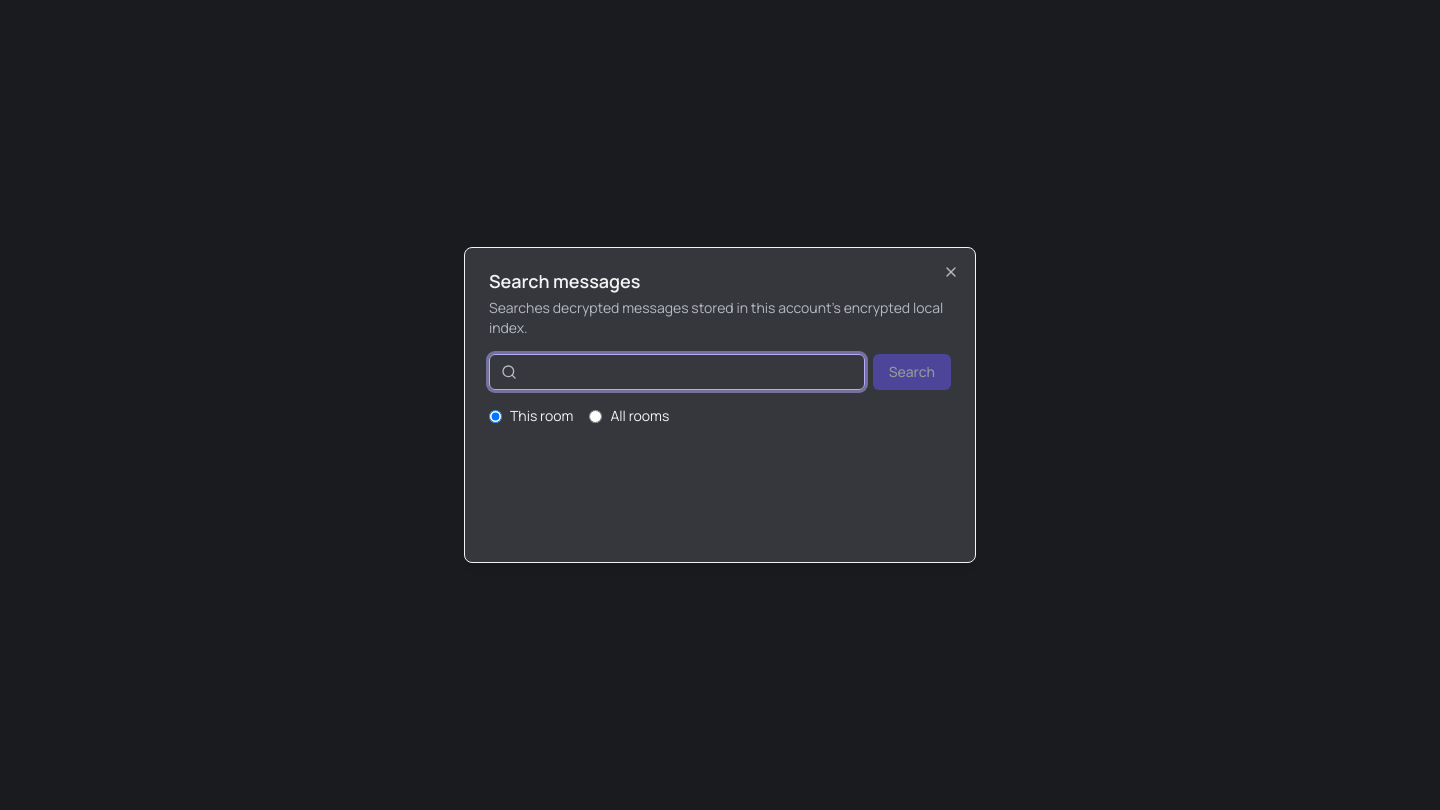
Test case: MessageSearchDialog › clears results and pagination when the user changes scope
Type "result" into the search field named "Message search query". click: (677,372)
box: [489,354,865,390]
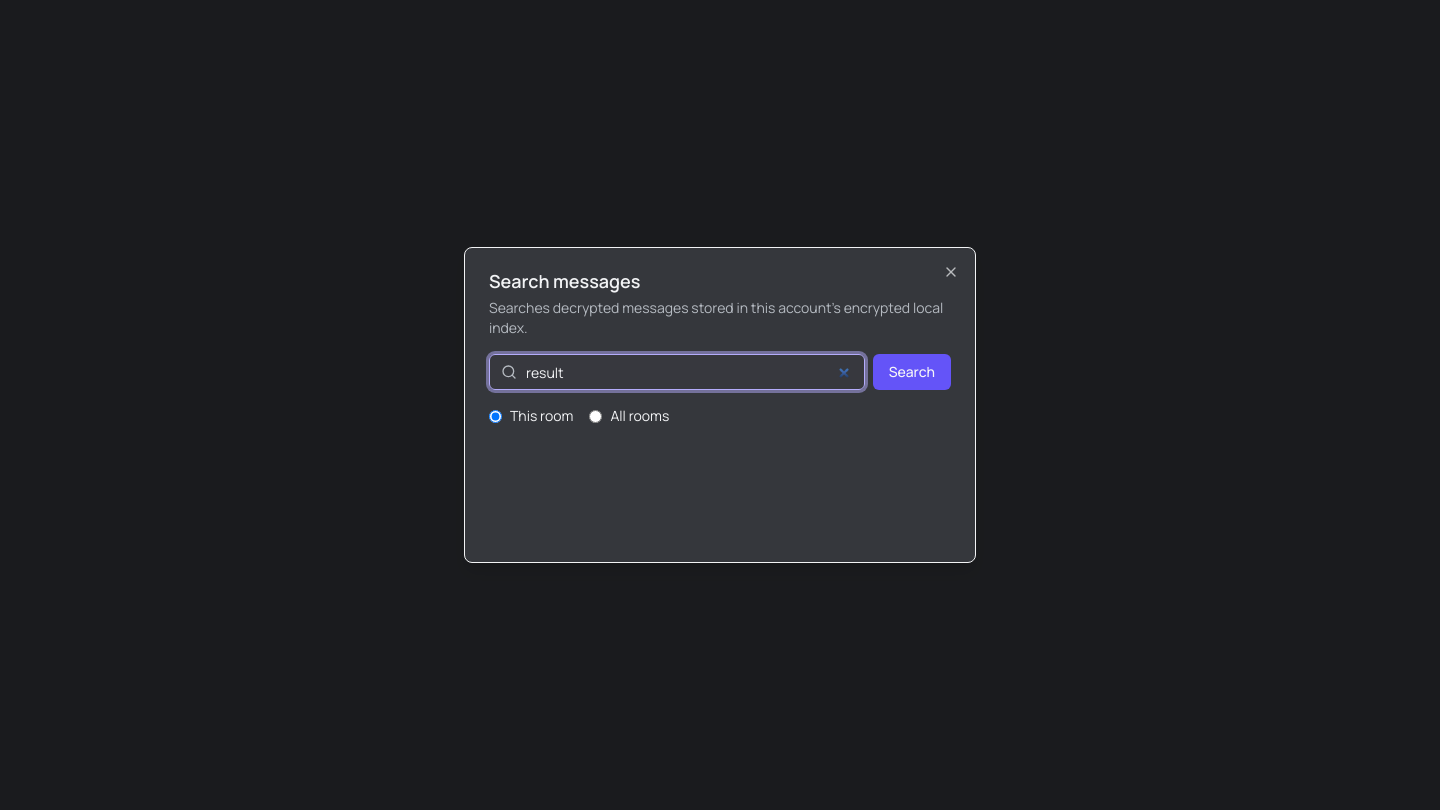
Click the button "Search". click: (912,372)
box: [873,354,951,390]
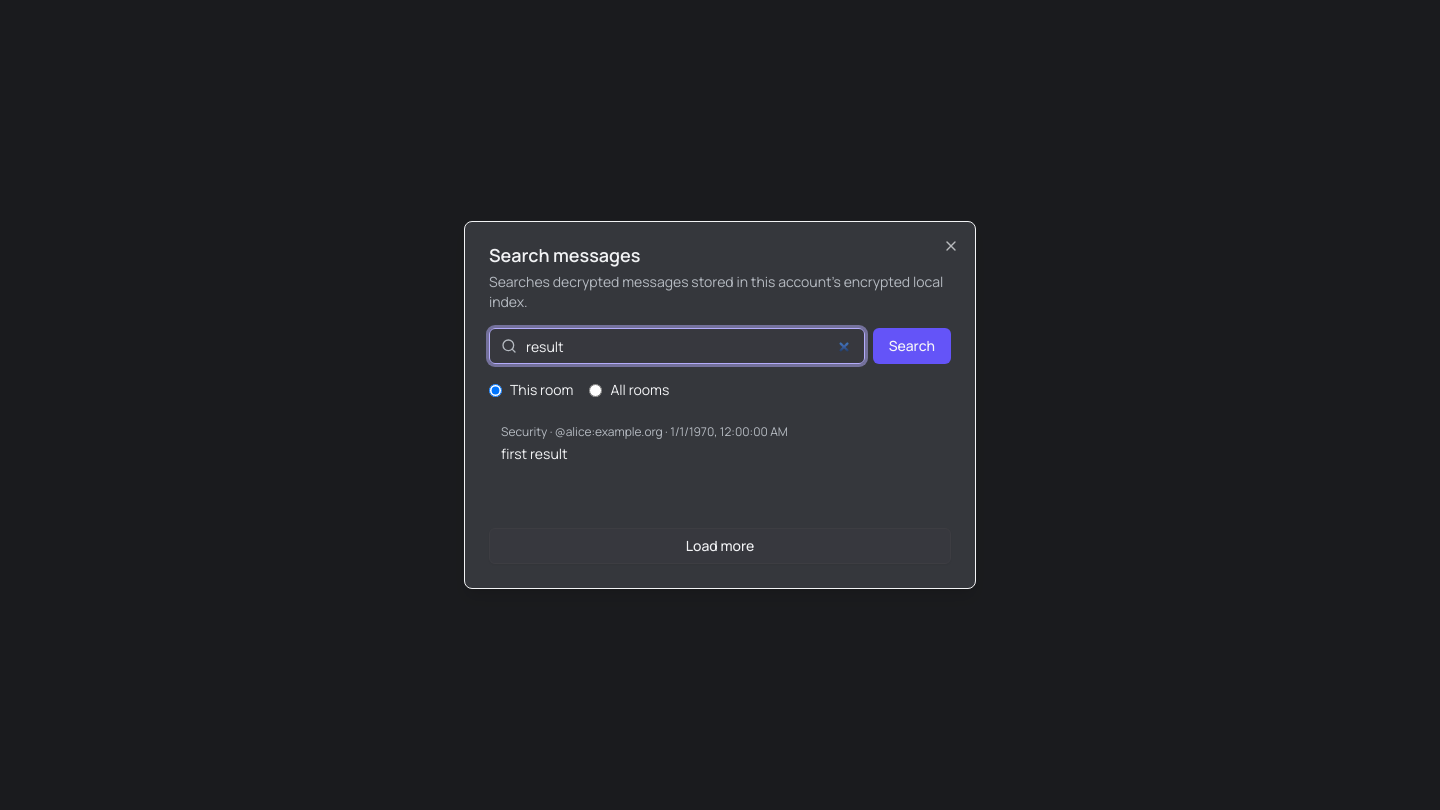
Now the text "first result" is shown, box [501,444,568,463]
Now the button "Load more" is shown, box [489,528,951,564]
Click the radio button labelled "All rooms". click: (596,390)
box: [589,384,602,396]
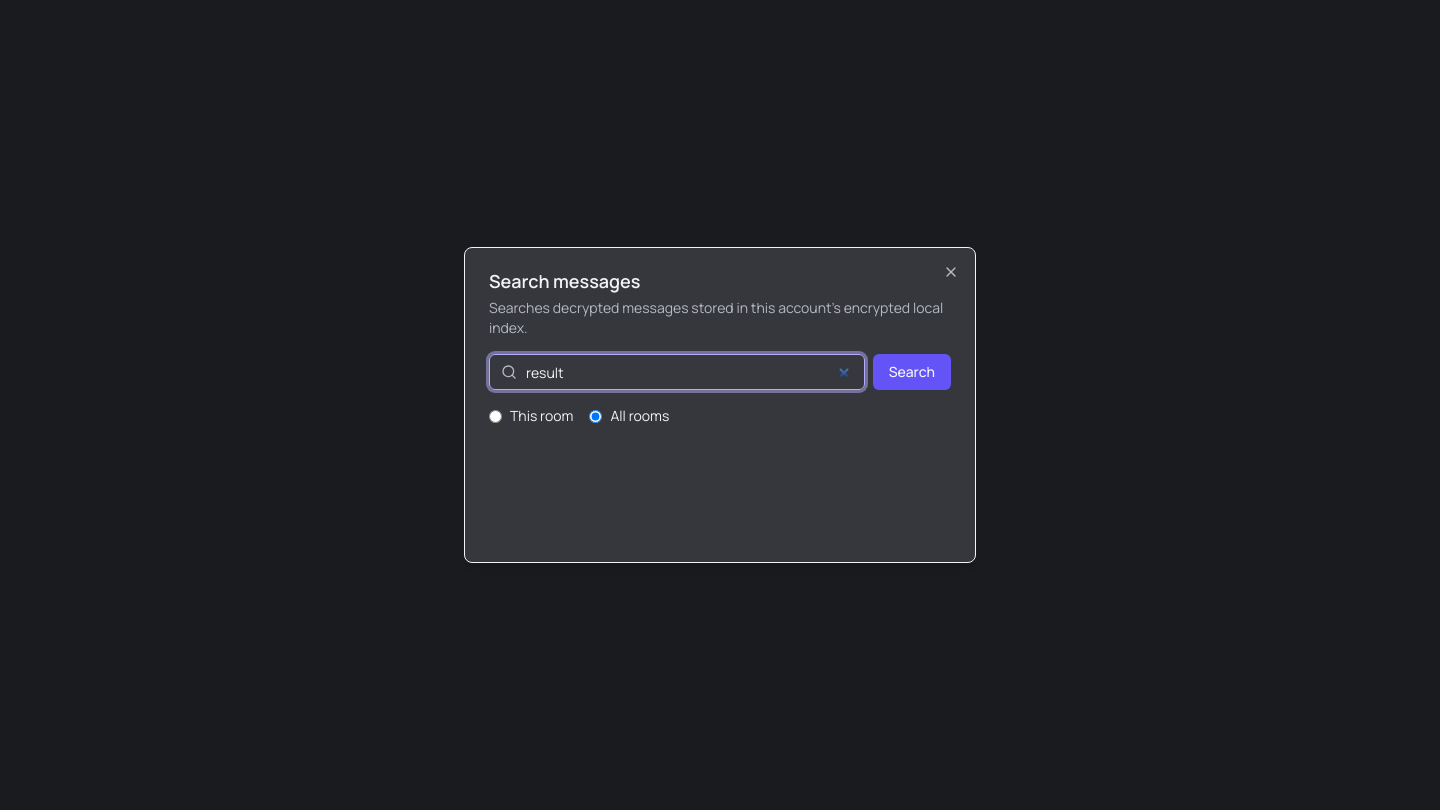
Now the button "first result" is gone
Now the button "Load more" is gone
